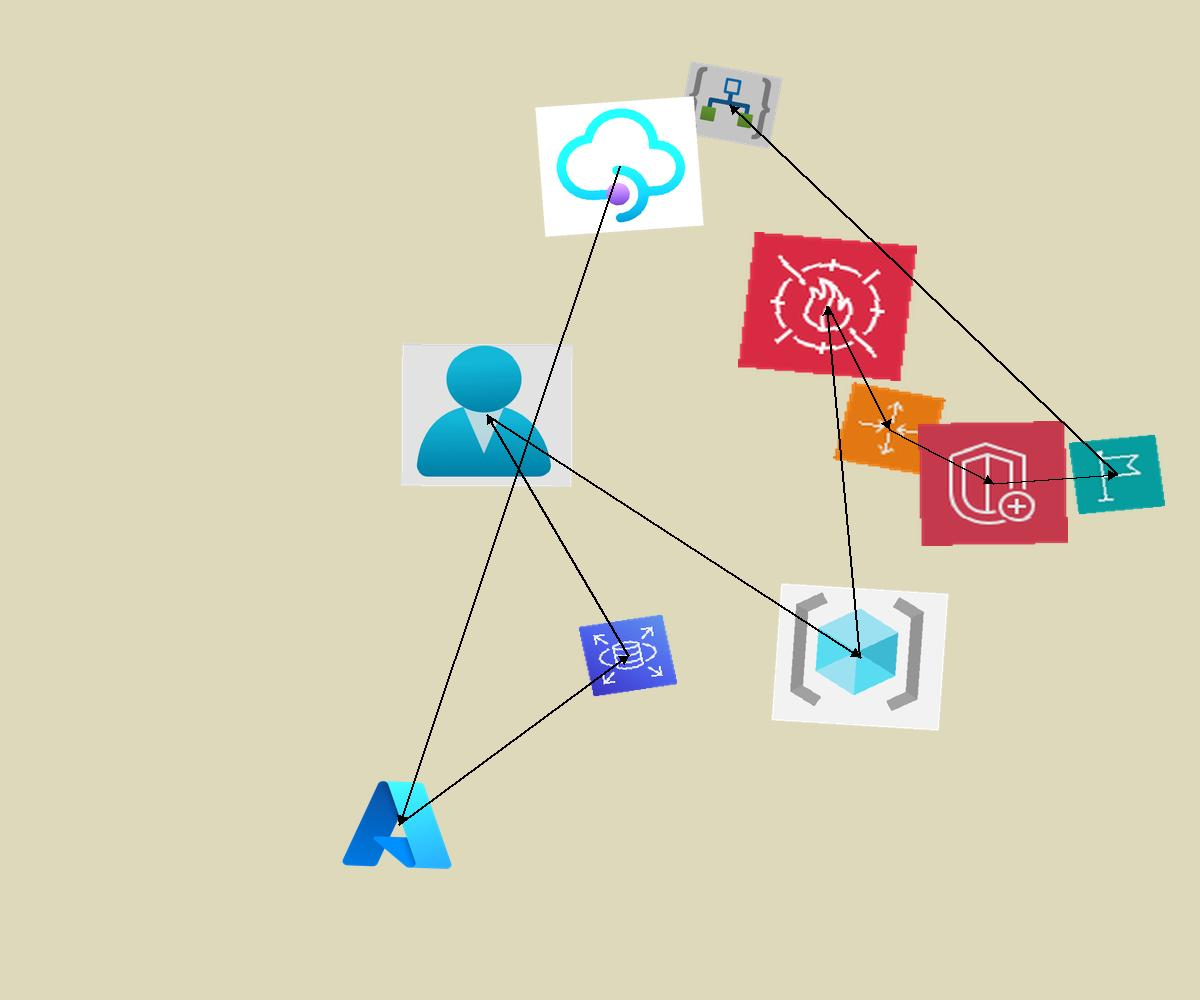AWS-RDS: (578, 614, 678, 697)
AWS-Region: (1068, 434, 1166, 515)
AWS-Scaling-group: (833, 382, 946, 476)
AWS-Shield: (918, 421, 1068, 546)
AWS-WAF: (738, 232, 917, 381)
Azure_api_gateway: (535, 96, 704, 237)
Azure_integration-204-Logic-Apps: (677, 61, 783, 149)
Azure_resource_group: (771, 583, 949, 731)
Azure_services: (337, 773, 461, 876)
Azure_users: (401, 343, 573, 487)
